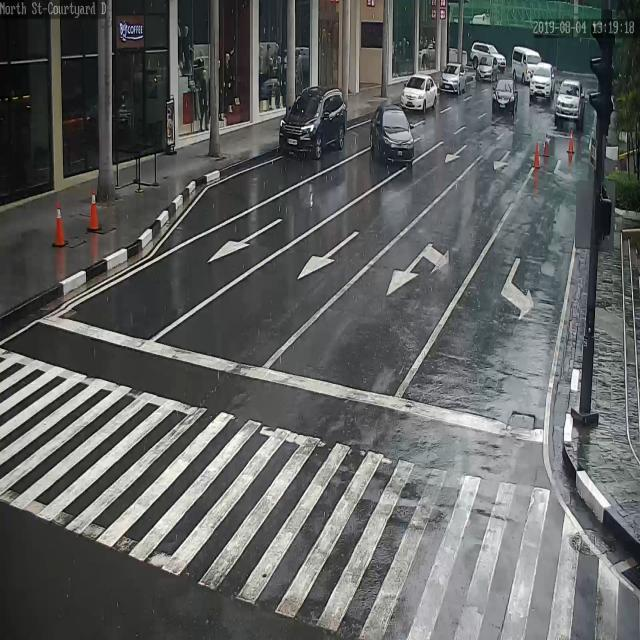car: (279, 85, 346, 158), (370, 104, 414, 164), (554, 78, 585, 127), (400, 74, 438, 110), (471, 43, 506, 72), (492, 79, 518, 115), (530, 62, 554, 101), (439, 62, 466, 95), (476, 54, 499, 81)
van: (511, 45, 542, 83)
